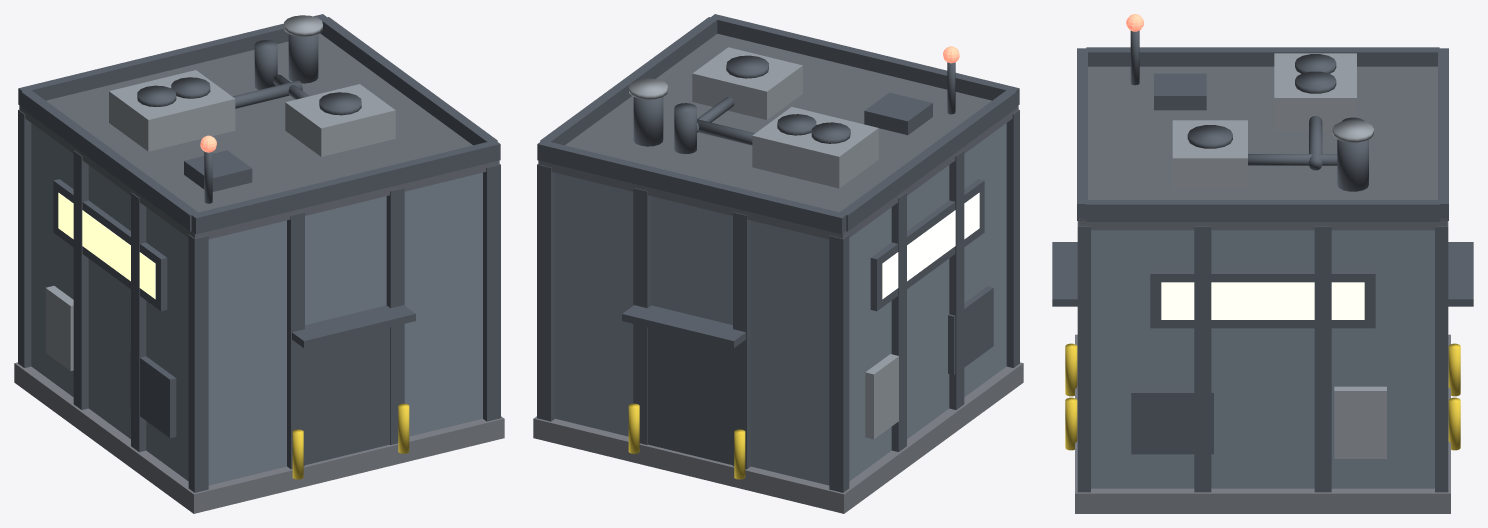
The model's file is industrial_building.glb.
3 views of the same model, side by side, from view 1: azimuth 30°, elevation 25°; view 2: azimuth 150°, elevation 25°; view 3: azimuth 270°, elevation 25° (orthographic). The views are drawn at different scales.
Visible parts, largest first — view 1: MainShell, RoofDeck, Foundation, BayDoorFrame_-1.0, ParapetS, HVAC_1, ColXY_-0.47_-0.47, HVAC_2, ParapetN, ColXY_0.47_-0.47, ParapetW, ColXY_-0.16_-0.47 (+20 smaller); view 2: MainShell, RoofDeck, Foundation, BayDoorFrame_1.0, ParapetN, HVAC_1, ParapetS, ColXY_-0.47_0.47, HVAC_2, ColXY_0.47_0.47, ParapetW, ColXY_-0.16_0.47 (+20 smaller); view 3: MainShell, RoofDeck, Foundation, ParapetE, WinGlass_1.0, ParapetW, WinFrame_1.0, ColYX_0.47_0.16, ColYX_0.47_-0.16, HVAC_1, HVAC_2, Louver_1.0 (+20 smaller).
Part boxes in pixels (<box>): MainShell: <box>31,123,482,485</box>; RoofDeck: <box>19,33,499,239</box>; Foundation: <box>14,362,504,513</box>; BayDoorFrame_-1.0: <box>305,327,389,465</box>; ParapetS: <box>191,141,500,234</box>; HVAC_1: <box>109,70,235,151</box>; ColXY_-0.47_-0.47: <box>188,234,208,492</box>; HVAC_2: <box>285,84,395,156</box>; ParapetN: <box>18,14,326,106</box>; ColXY_0.47_-0.47: <box>483,164,500,421</box>; ParapetW: <box>21,89,198,231</box>; ColXY_-0.16_-0.47: <box>287,212,304,469</box>; MainShell: <box>555,123,1006,485</box>; RoofDeck: <box>538,33,1018,239</box>; Foundation: <box>533,362,1023,513</box>; BayDoorFrame_1.0: <box>648,327,732,465</box>; ParapetN: <box>537,141,846,234</box>; HVAC_1: <box>752,107,878,188</box>; ParapetS: <box>711,14,1019,106</box>; ColXY_-0.47_0.47: <box>829,234,849,492</box>; HVAC_2: <box>692,47,802,119</box>; ColXY_0.47_0.47: <box>537,164,554,421</box>; ParapetW: <box>839,89,1016,231</box>; ColXY_-0.16_0.47: <box>733,212,750,469</box>; MainShell: <box>1091,230,1434,488</box>; RoofDeck: <box>1078,66,1447,230</box>; Foundation: <box>1075,334,1450,513</box>; ParapetE: <box>1086,200,1439,221</box>; WinGlass_1.0: <box>1161,282,1364,319</box>; ParapetW: <box>1086,47,1439,66</box>; WinFrame_1.0: <box>1150,270,1375,328</box>; ColYX_0.47_0.16: <box>1314,226,1331,492</box>; ColYX_0.47_-0.16: <box>1194,226,1211,492</box>; HVAC_1: <box>1274,53,1356,130</box>; HVAC_2: <box>1172,120,1247,188</box>; Louver_1.0: <box>1131,390,1213,454</box>.
Bounding box in the file's own units: 1 × 1.06 × 1.12.
